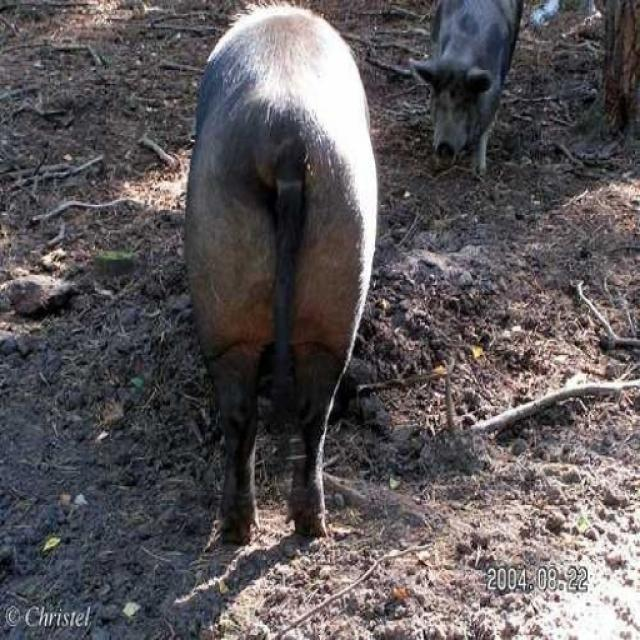pig: (137, 5, 447, 508)
